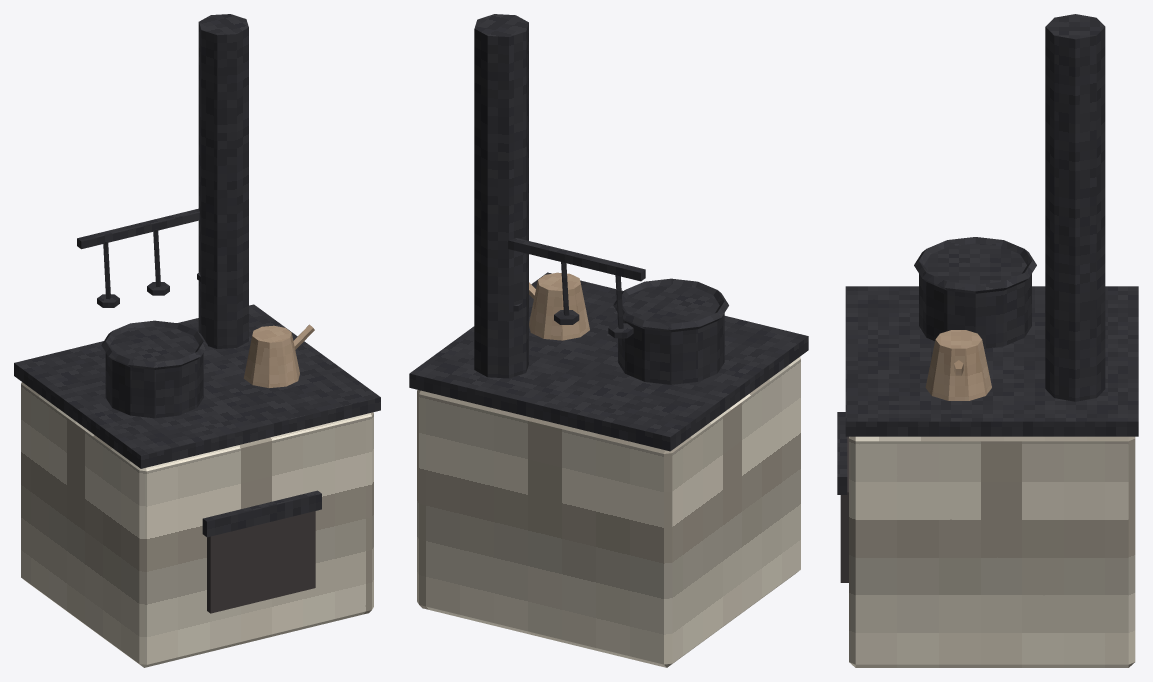
Rendered from kitchen_stove.obj.
3 renders of one model, left to right at view 1: azimuth 30°, elevation 25°; view 2: azimuth 150°, elevation 25°; view 3: azimuth 270°, elevation 25°, orthographic. The views are drawn at different scales.
Parts seen in each view (by area): view 1: kitchen_stove; view 2: kitchen_stove; view 3: kitchen_stove.
Part boxes in pixels (x1,y1,x2,y2): kitchen_stove: [14, 14, 380, 667]; kitchen_stove: [409, 14, 808, 667]; kitchen_stove: [837, 14, 1138, 667].
Bounding box in the file's own units: 0.96 × 2.03 × 0.905.
